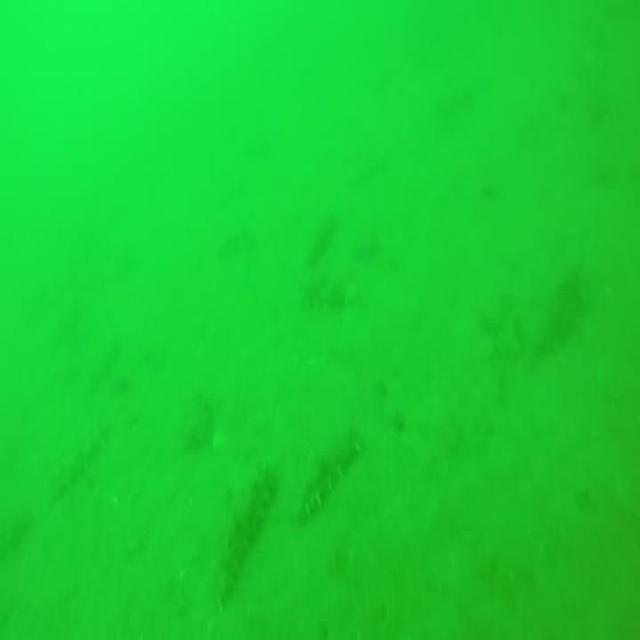holothurian: (213, 469, 281, 602), (293, 422, 359, 517), (44, 419, 108, 496), (294, 277, 346, 305)
